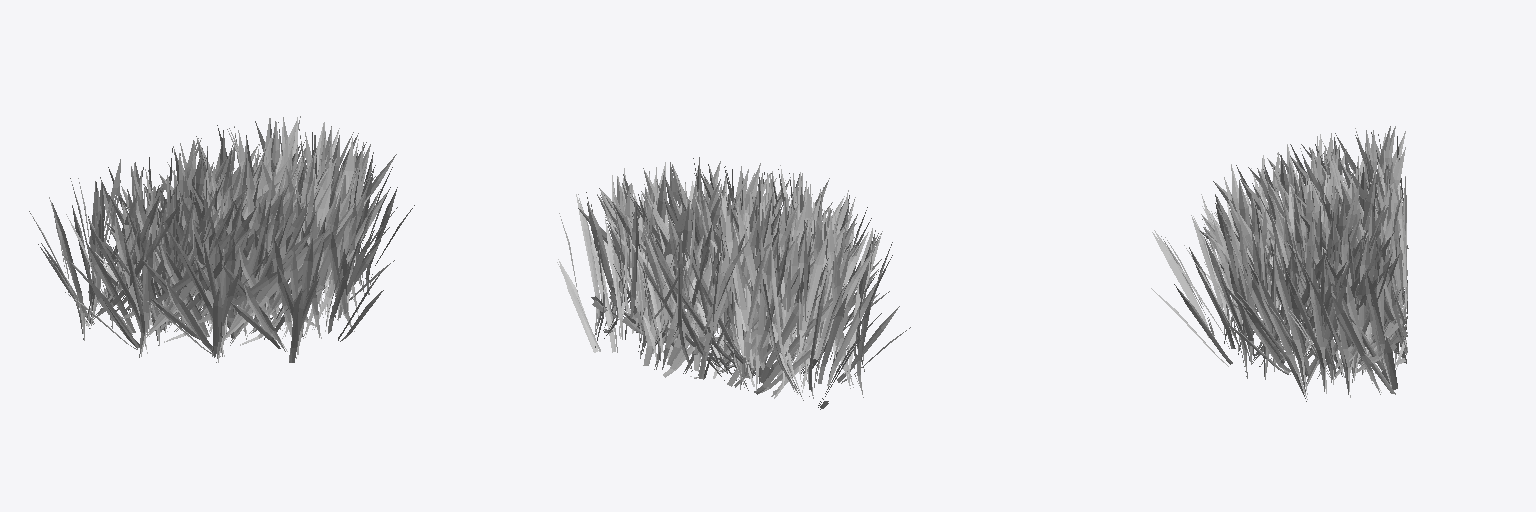
File: thin_water_weeds.obj
3 views of the same model, side by side, from view 1: azimuth 30°, elevation 25°; view 2: azimuth 150°, elevation 25°; view 3: azimuth 270°, elevation 25° (orthographic).
Visible parts, largest first — view 1: weed04; view 2: weed04; view 3: weed04.
Boxes of the visible parts, x1=… form: weed04: x1=29, y1=116, x2=414, y2=362; weed04: x1=557, y1=157, x2=910, y2=409; weed04: x1=1151, y1=126, x2=1408, y2=401.
Size of the model in its own units: 52.61 by 26.46 by 34.77.